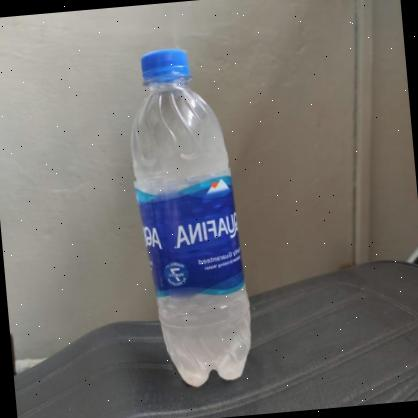bottle: (118, 37, 255, 392)
cap: (135, 43, 195, 90)
label: (138, 175, 242, 300)
